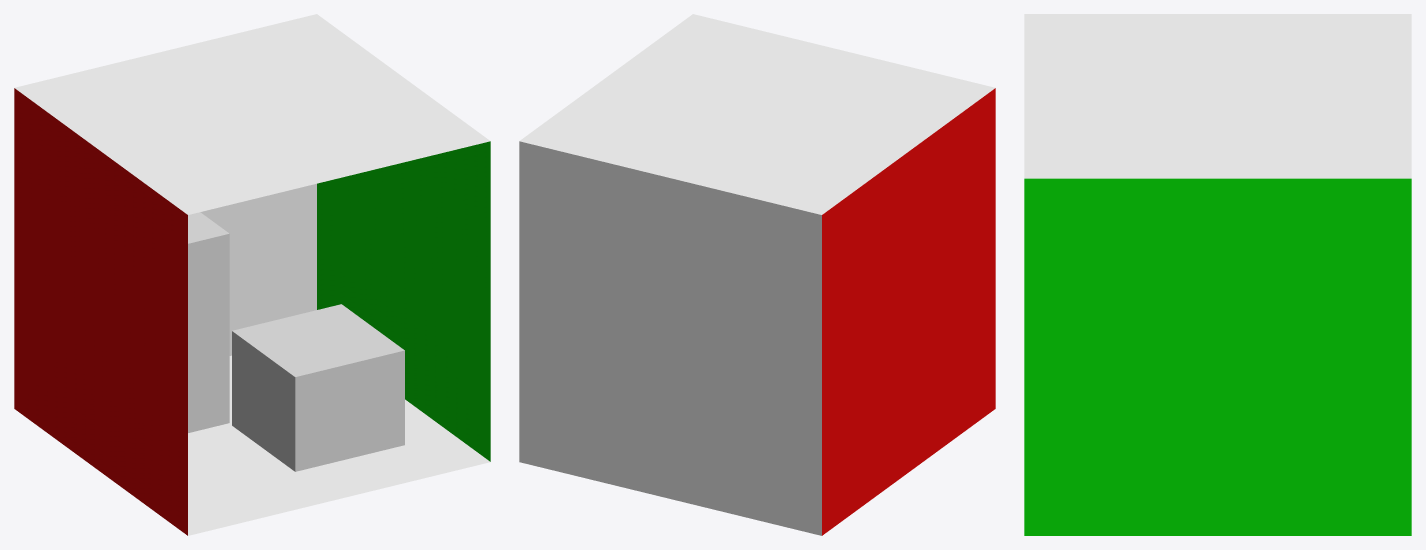
3 renders of one model, left to right at view 1: azimuth 30°, elevation 25°; view 2: azimuth 150°, elevation 25°; view 3: azimuth 270°, elevation 25°, orthographic. The views are drawn at different scales.
Visible parts, largest first — view 1: Box002, Box004, Box003; view 2: Box002; view 3: Box002.
Boxes of the visible parts, x1,y1,x2,y2 form: Box002: (14,14,490,535); Box004: (232,304,404,471); Box003: (188,212,229,432); Box002: (519,14,995,535); Box002: (1024,14,1411,535).
Bounding box in the file's own units: 5.52 × 5.49 × 5.59.
